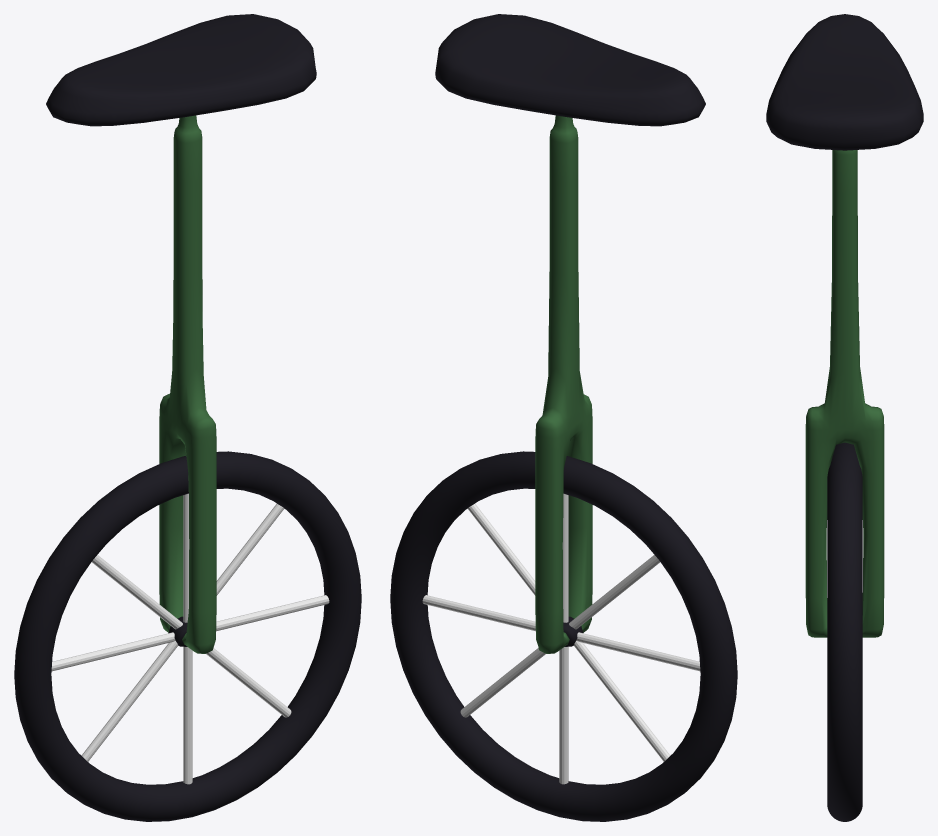
Rendered from unicycle.fbx.
3 views of the same model, side by side, from view 1: azimuth 30°, elevation 25°; view 2: azimuth 150°, elevation 25°; view 3: azimuth 270°, elevation 25° (orthographic). The views are drawn at different scales.
Visible parts, largest first — view 1: Unicycle, Frame, Seat, Spokes; view 2: Unicycle, Frame, Seat, Spokes; view 3: Frame, Seat, Unicycle.
Part boxes in pixels (x1=…): Unicycle: x1=14, y1=451, x2=361, y2=821; Frame: x1=159, y1=115, x2=216, y2=653; Seat: x1=46, y1=14, x2=316, y2=126; Spokes: x1=51, y1=493, x2=329, y2=784; Unicycle: x1=390, y1=451, x2=737, y2=821; Frame: x1=535, y1=115, x2=592, y2=653; Seat: x1=435, y1=14, x2=705, y2=126; Spokes: x1=422, y1=493, x2=700, y2=784; Frame: x1=805, y1=150, x2=884, y2=637; Seat: x1=766, y1=14, x2=923, y2=150; Unicycle: x1=827, y1=442, x2=862, y2=821.
Size of the model in its own units: 131 by 278 by 53.92.
